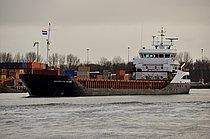Ship: (16, 32, 194, 99)
